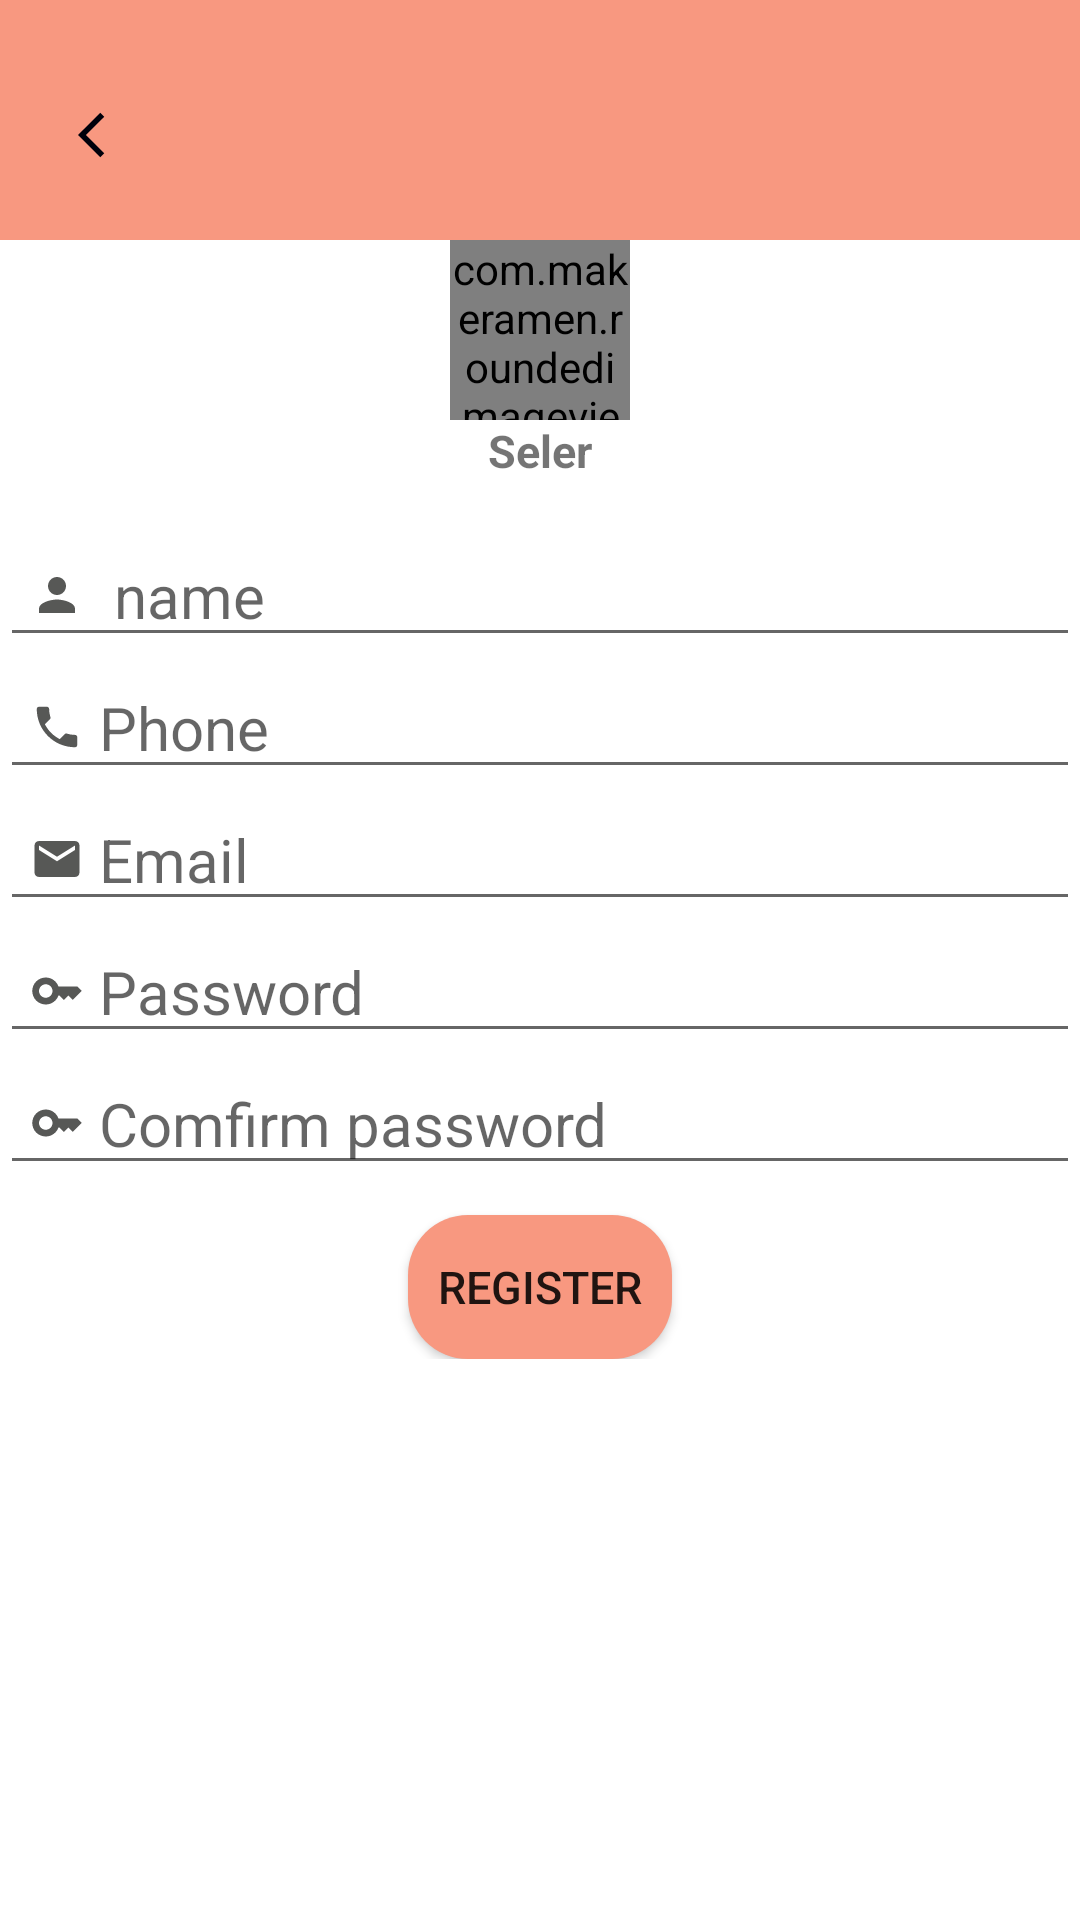

Icons on this 1080 × 1920 Android screen, each with the point to tap as (x,y):
back: (91,135)
